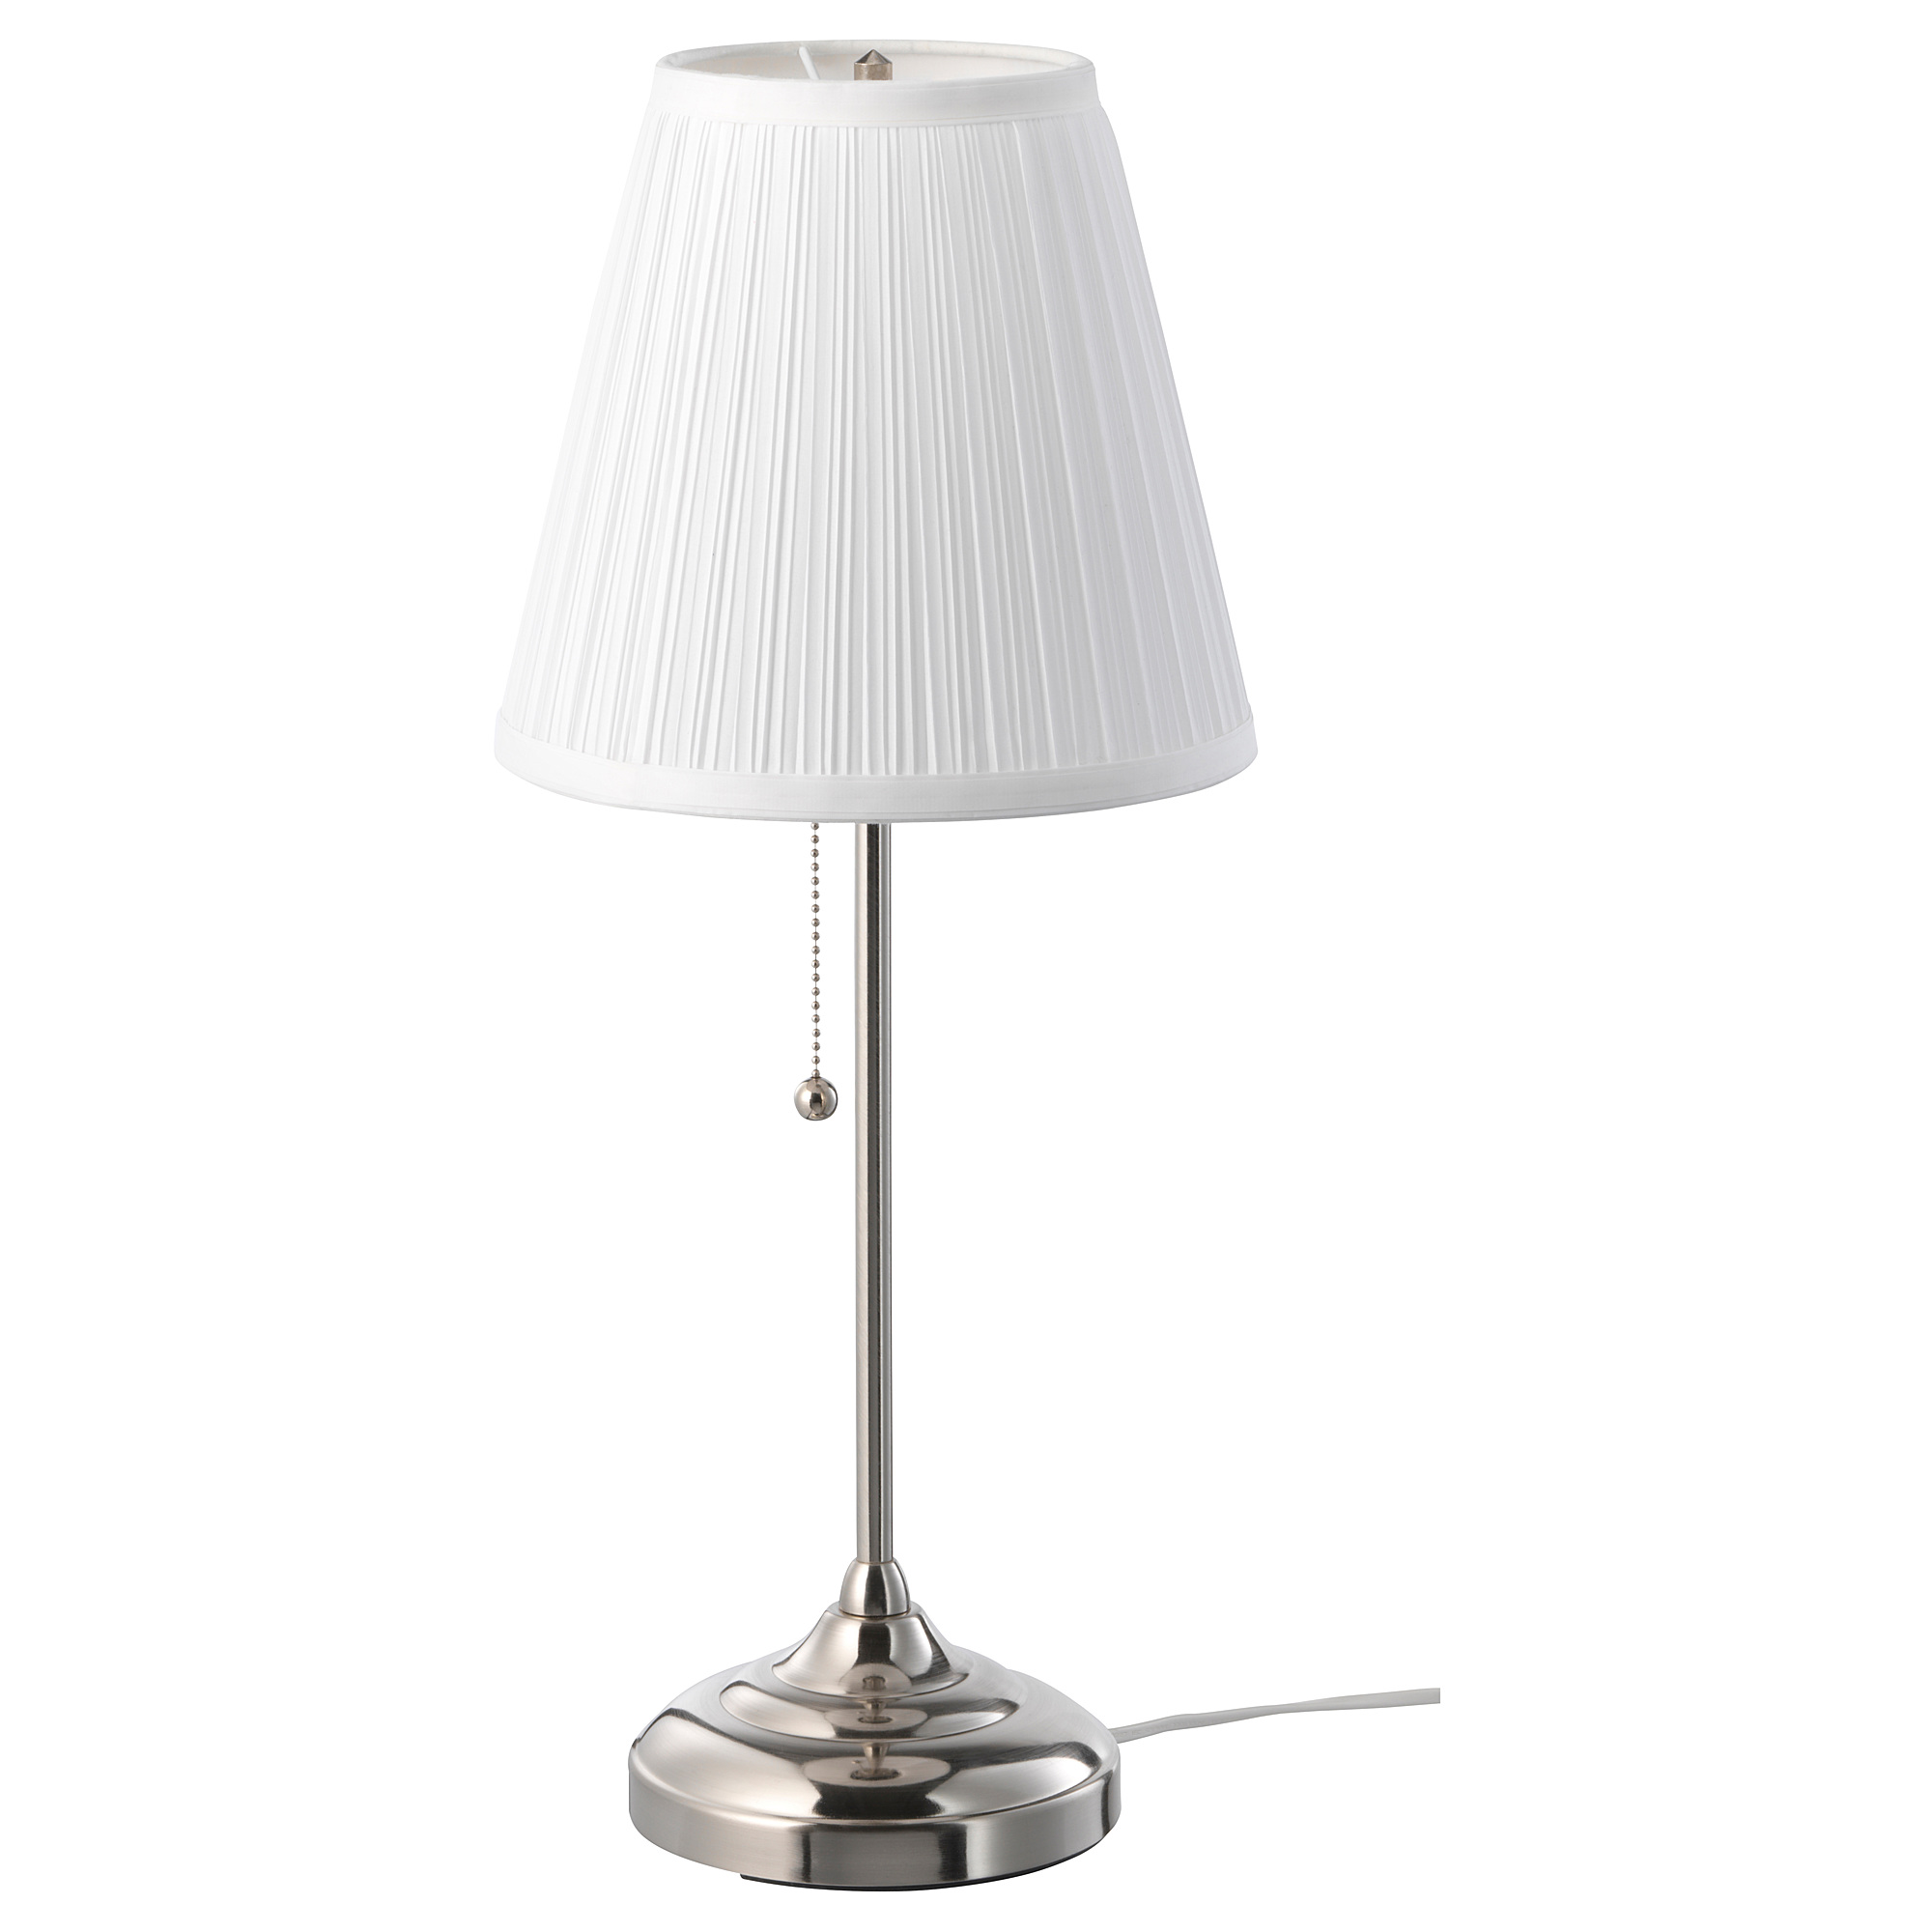lampu: (492, 34, 1261, 1932)
